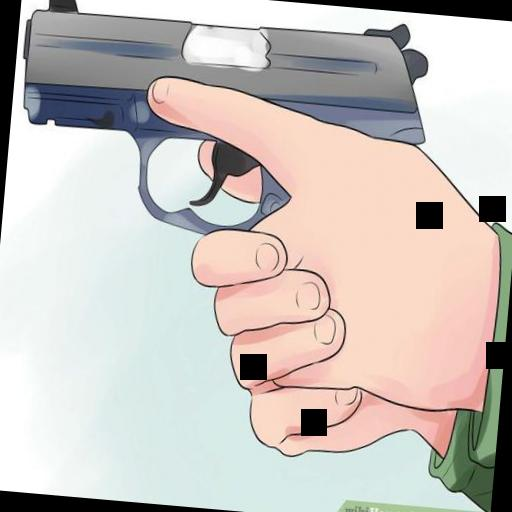Handgun: (3, 0, 455, 255)
